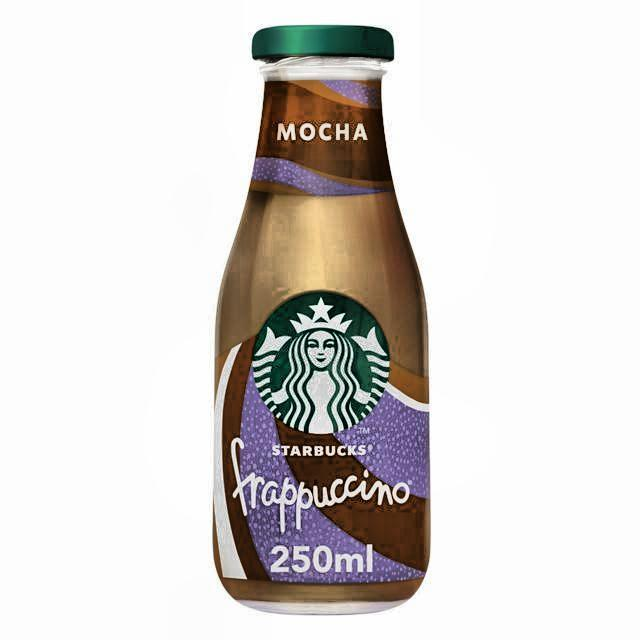glass: (209, 26, 432, 617)
